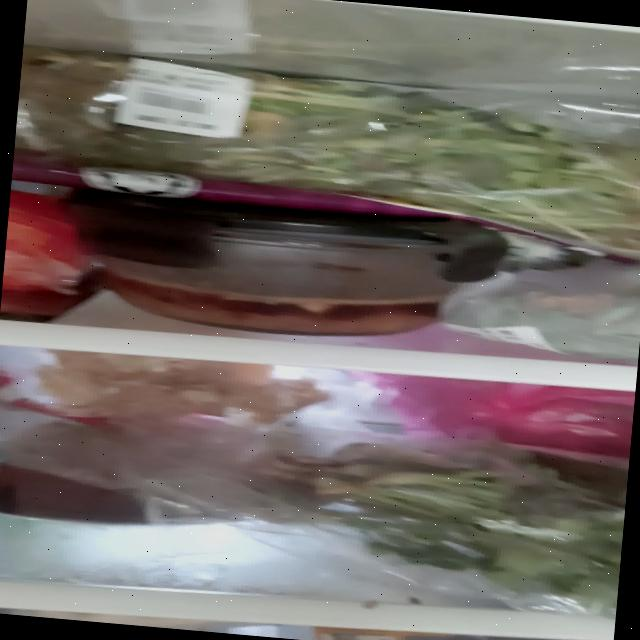leafy_greens: (9, 46, 640, 261), (309, 459, 626, 617)
